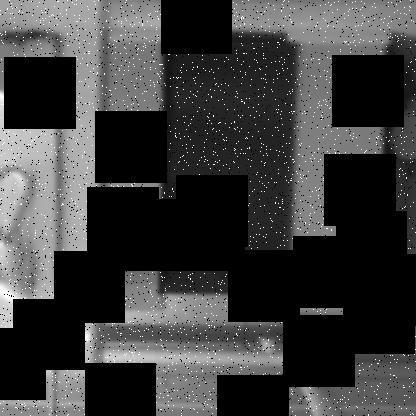Porte: (155, 31, 300, 298)
